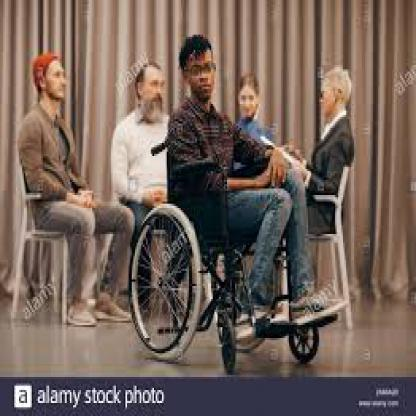wheelchair: (132, 32, 351, 375)
